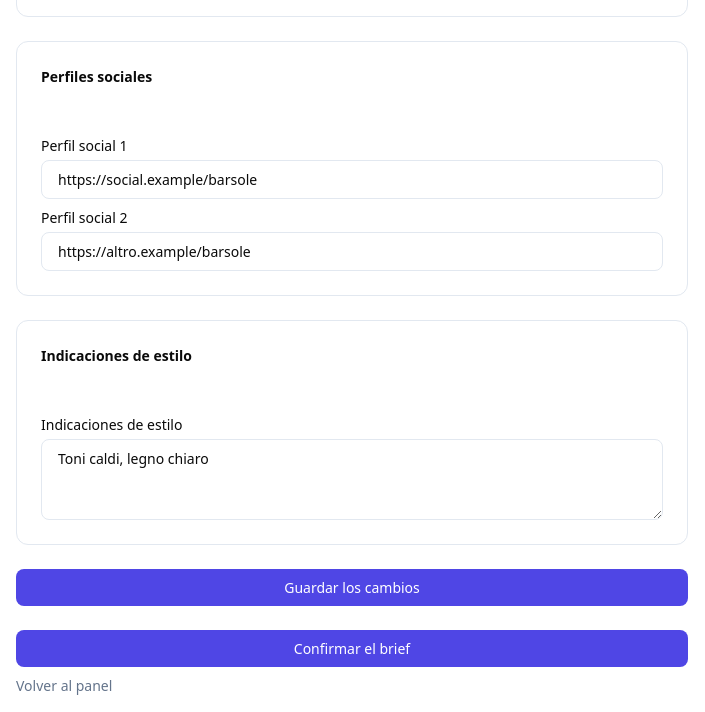
Test: T-152 localizzazione (AC-152-4) › in es anche la conferma esplicita, i suoi errori e la destinazione sono localizzati
(page scrolled)
Click the button "Confirmar el brief": (352, 648) [16,630,688,667]
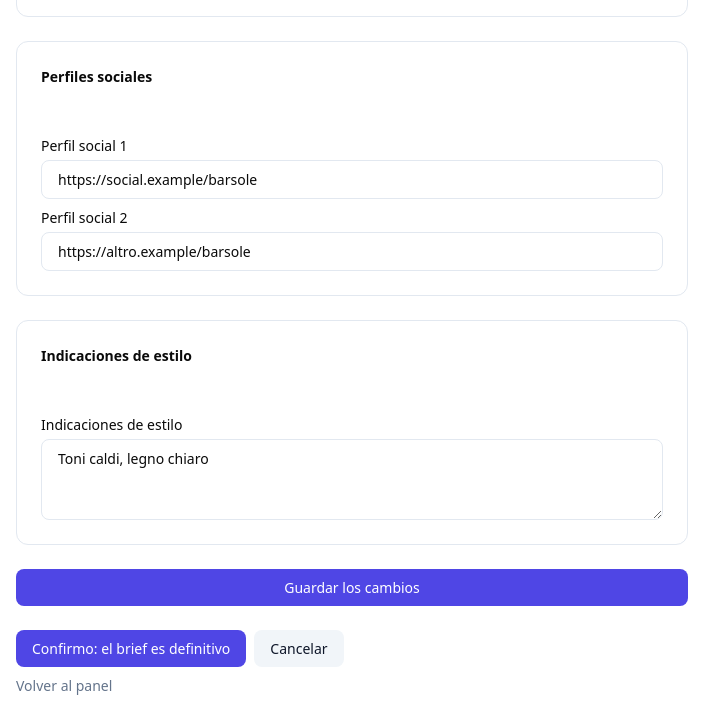
Check: the button "Confirmo: el brief es definitivo" is shown
Check: the button "Cancelar" is shown, box [254,630,344,667]
Click the button "Confirmo: el brief es definitivo": (131, 648) [16,630,246,667]
(page scrolled)
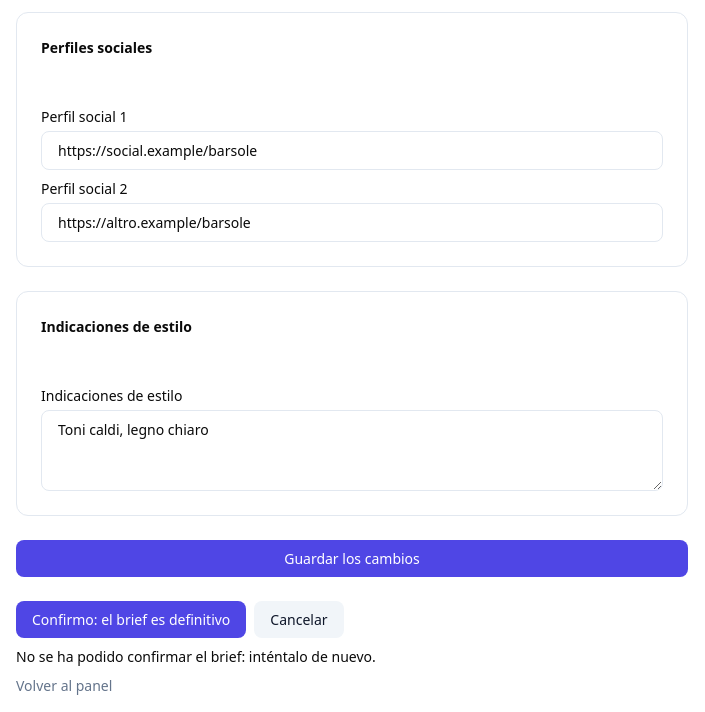
Check: the message reads "No se ha podido confirmar el brief: inténtalo de nuevo.", box [16,647,376,666]
